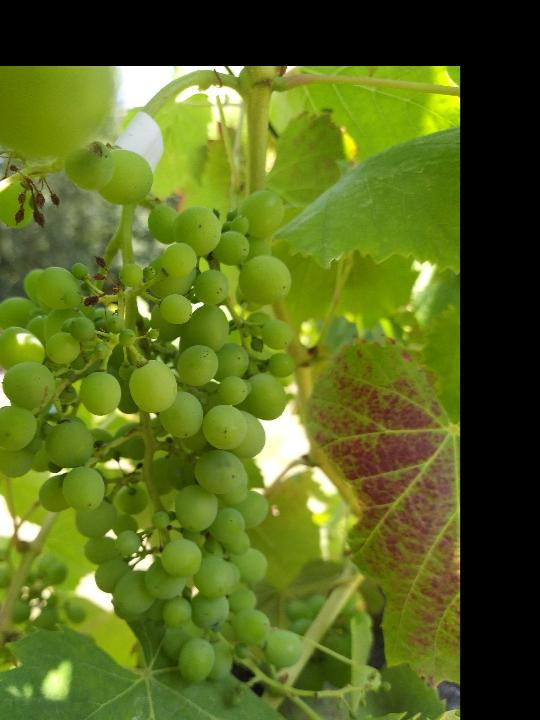grape: (0, 187, 303, 697)
